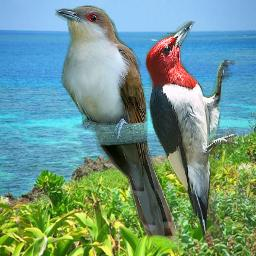Cuckoo: (55, 5, 184, 255)
Woodpecker: (144, 21, 238, 243)
